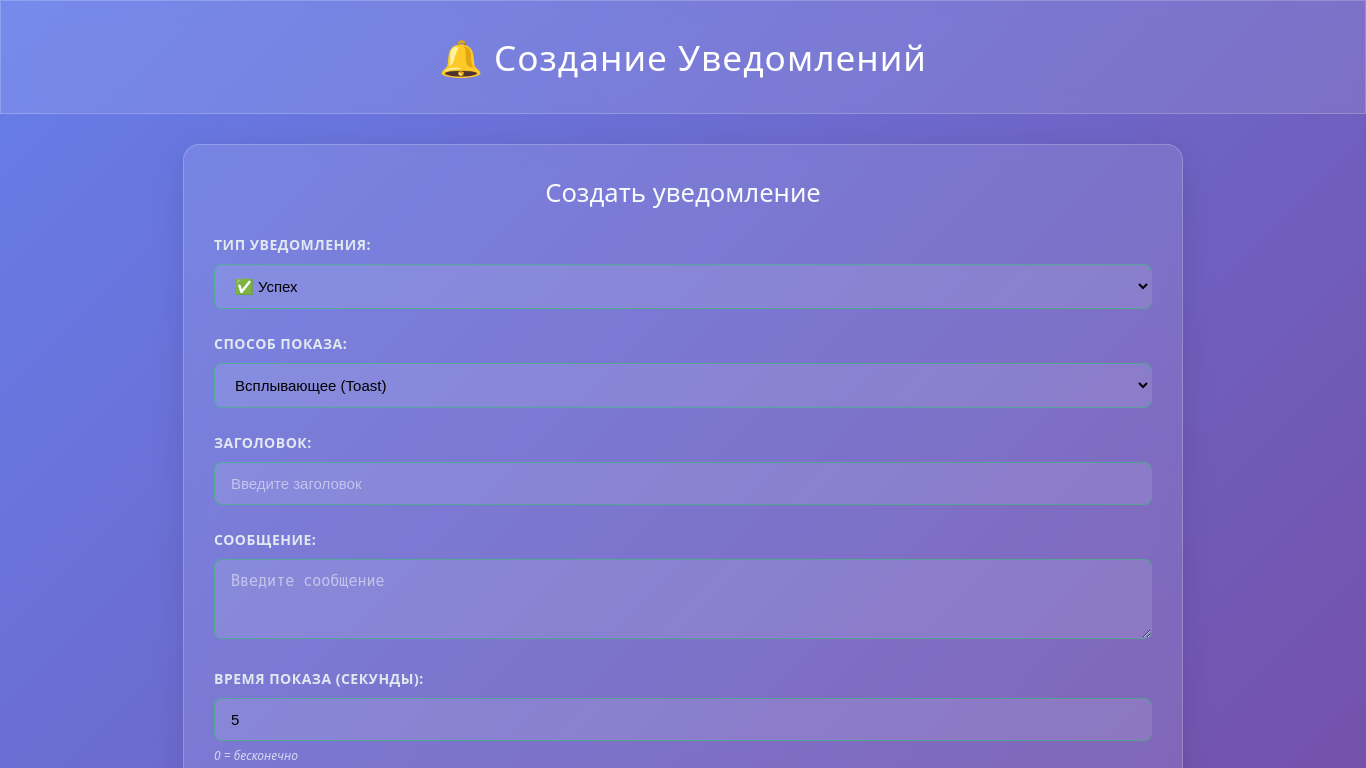
Система Уведомлений - E2E Тесты › Модальные уведомления › должен показывать success модальное окно
The width and height of the screenshot is (1366, 768).
Select "Модальное окно" in the dropdown with test id "channel-select" at x=683, y=386, box [214,363,1152,408]
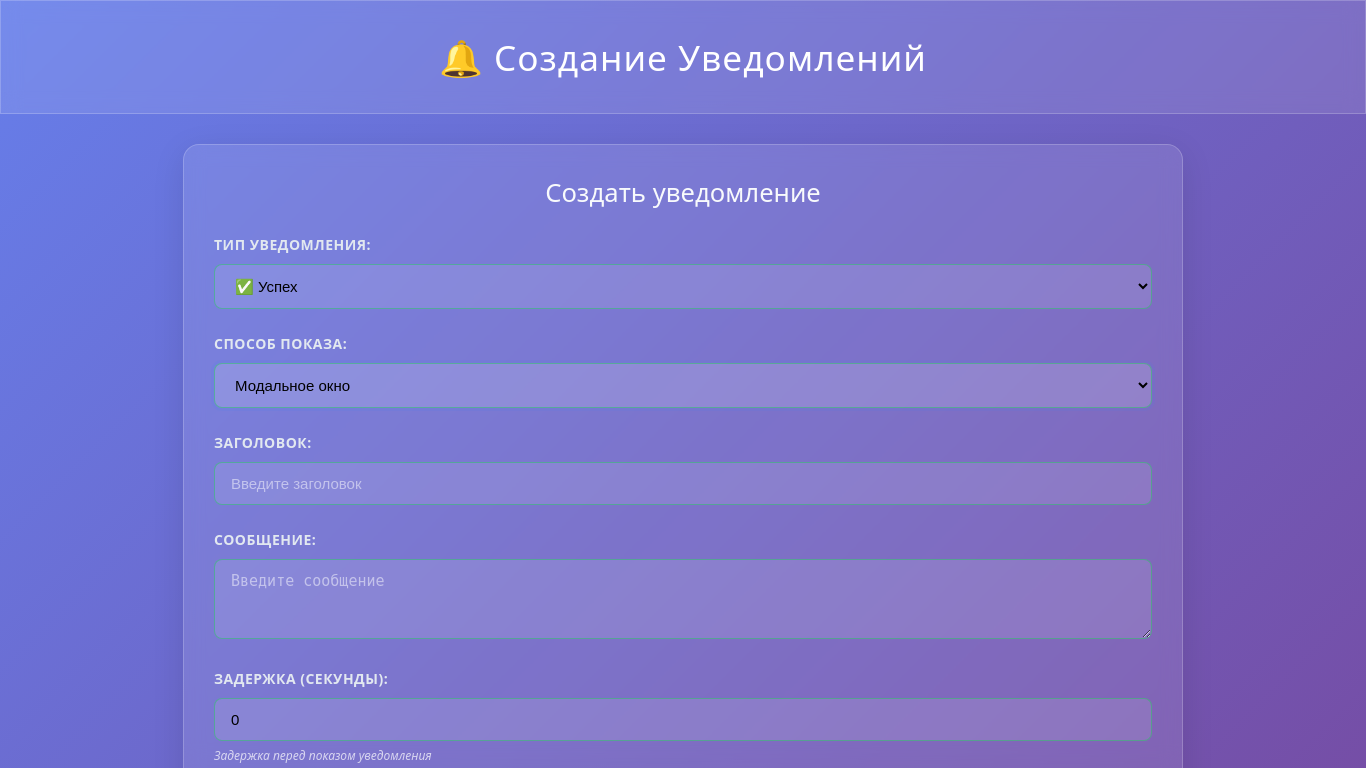
Select "✅ Успех" in the dropdown with test id "type-select" at x=683, y=287, box [214,264,1152,309]
Type "Успех!" into the field with test id "title-input" at x=683, y=484, box [214,462,1152,505]
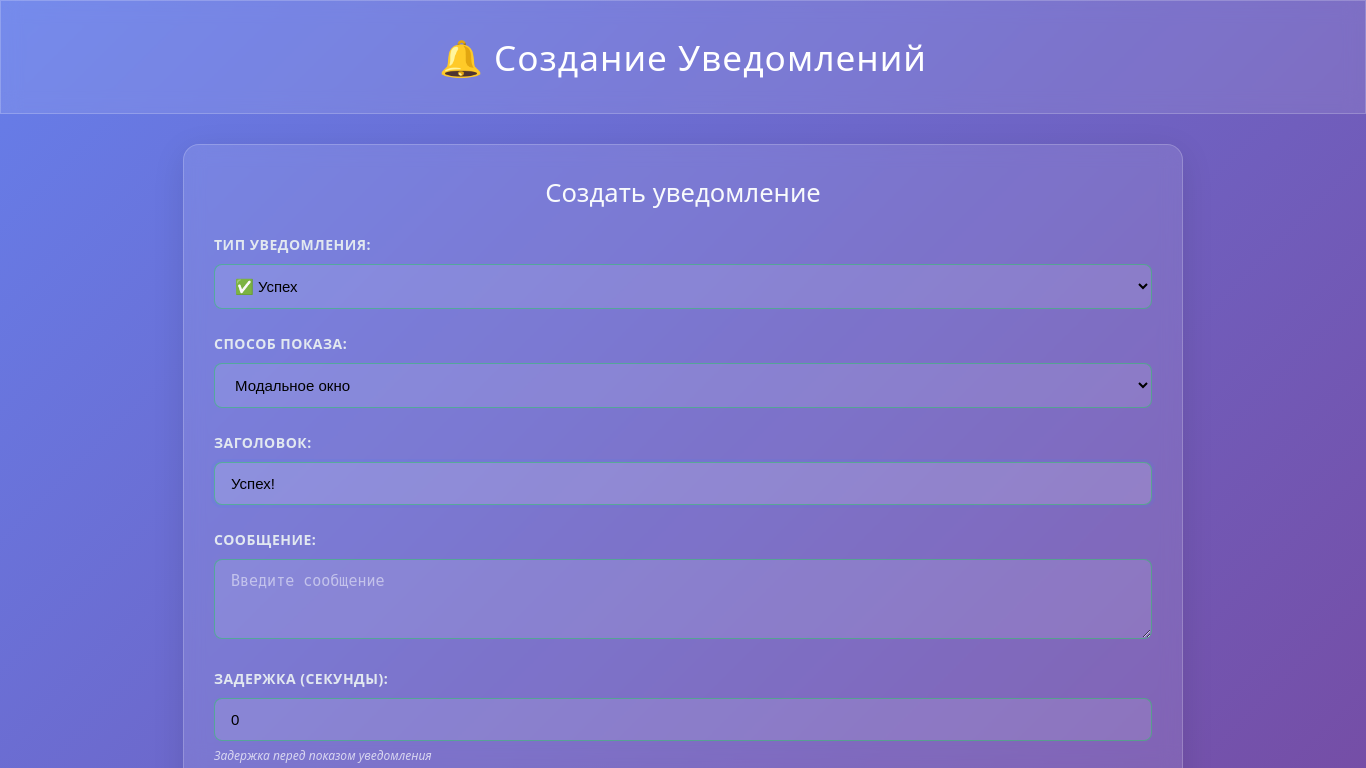
Type "Данные сохранены" into the text box with test id "message-textarea" at x=683, y=599, box [214,559,1152,639]
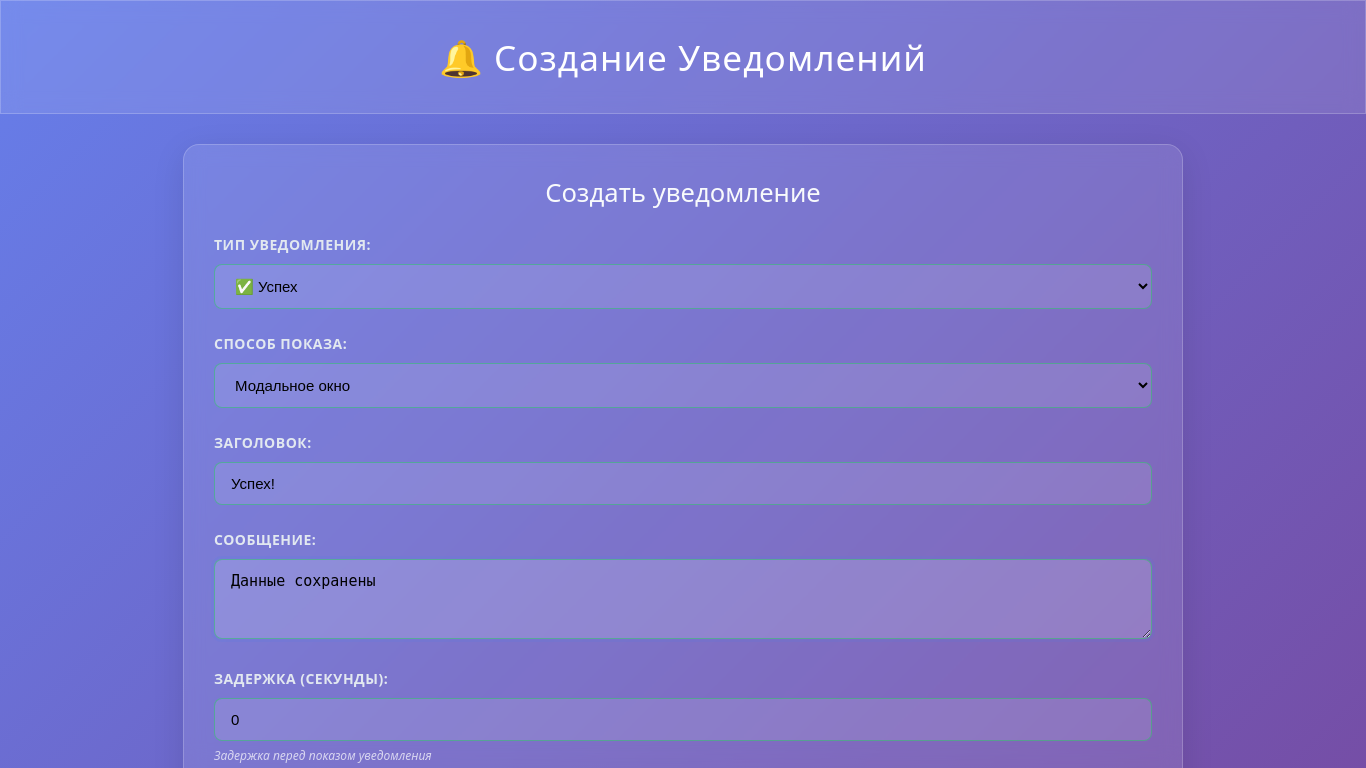
Scroll
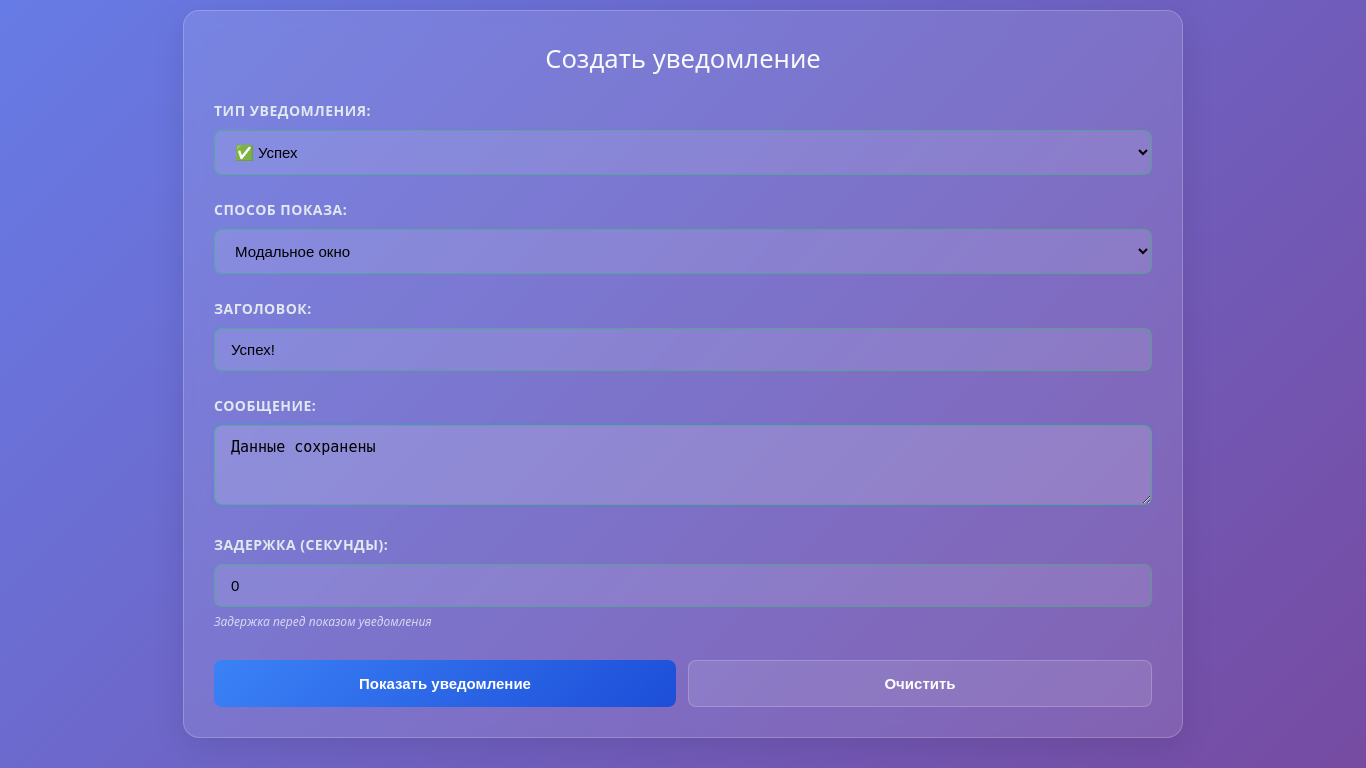
Click the button with test id "submit-button" at x=445, y=684, box [214,660,676,707]
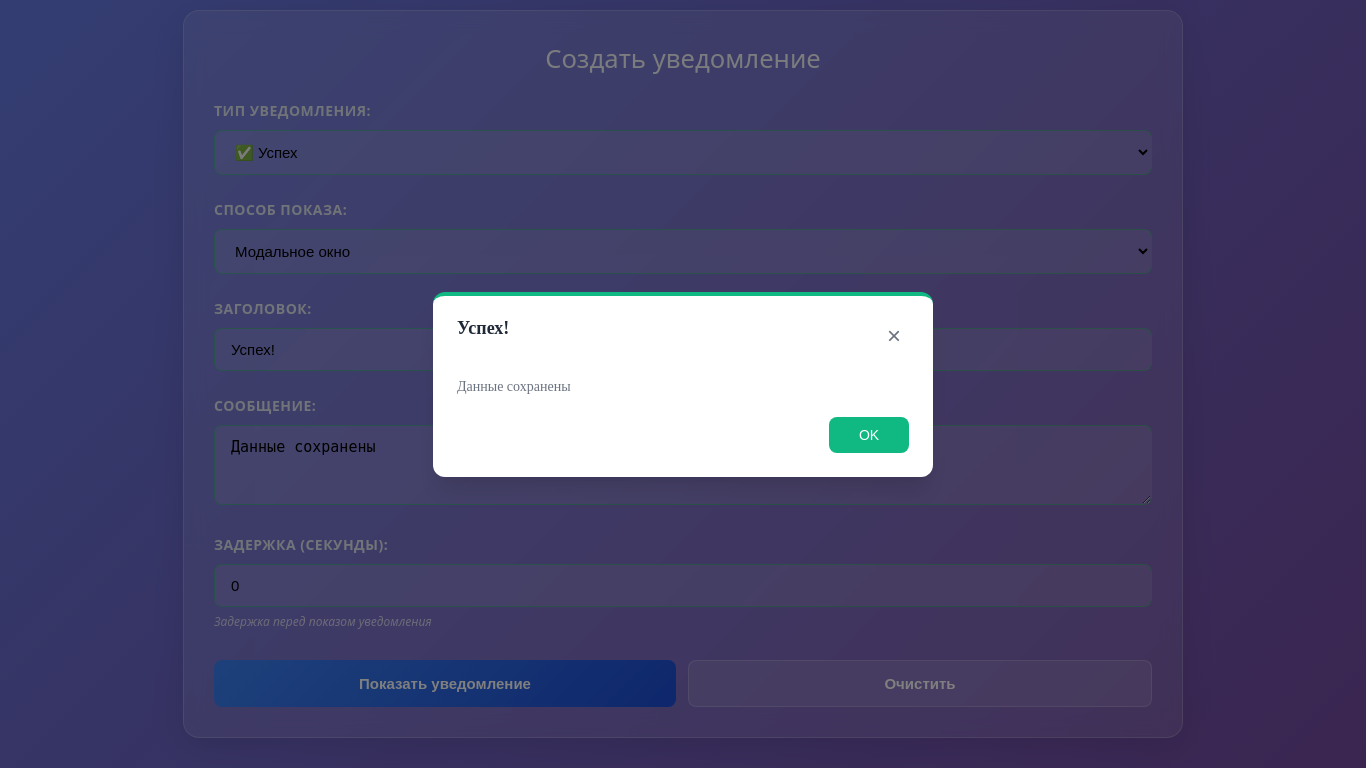
Expected: the element with test id "modal-content" is shown, [433,292,933,477]
Expected: the heading with test id "modal-title" reads "Успех!", [457,318,509,338]
